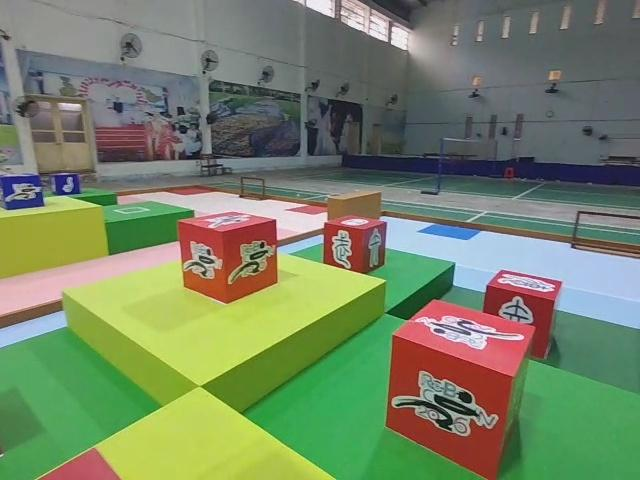R1: (387, 299, 535, 479), (178, 211, 278, 305)
R2 Fake: (324, 215, 388, 278)
